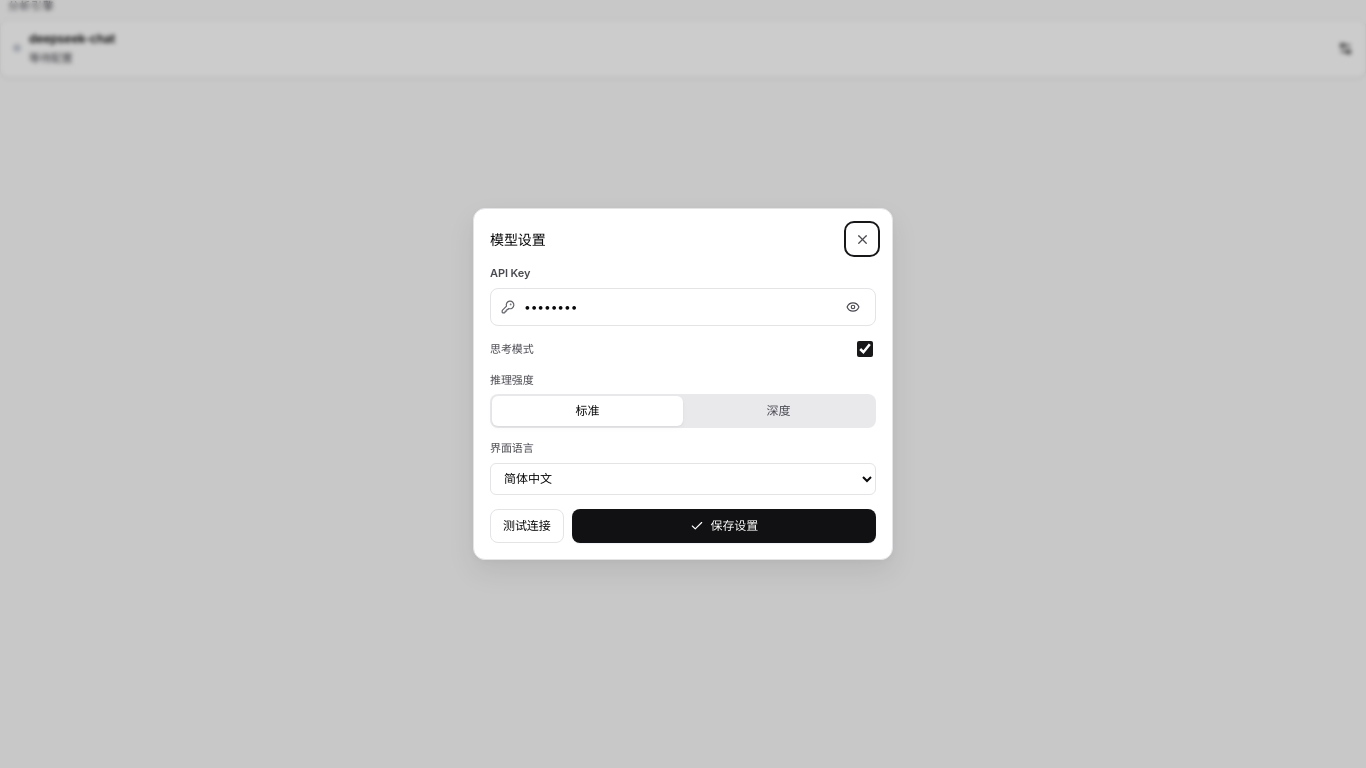
SettingsPanel › 语言选择立即切换界面语言并记忆
Select "English" in the dropdown labelled "界面语言" at (683, 479), box [490,463,876,495]
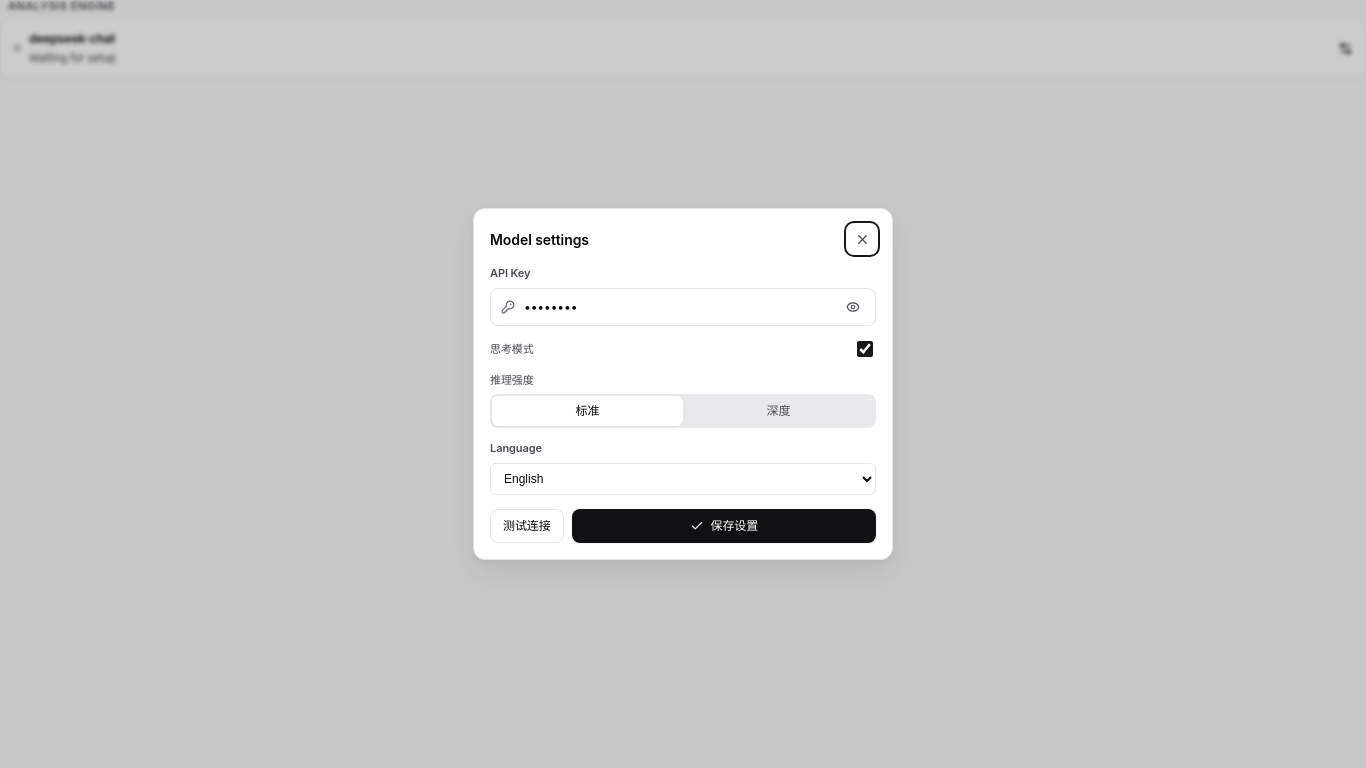
Expected: the heading "Model settings" is shown, [490,229,589,250]
